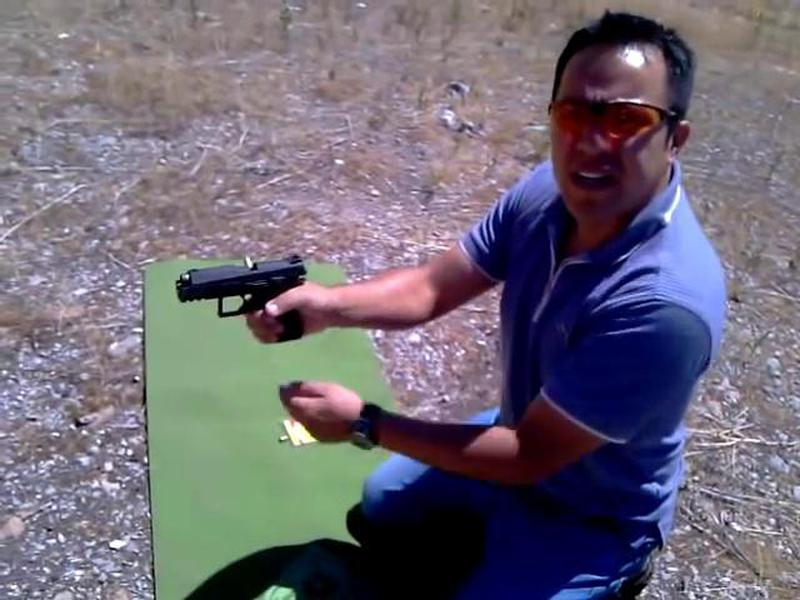Pistola: (157, 231, 329, 361)
